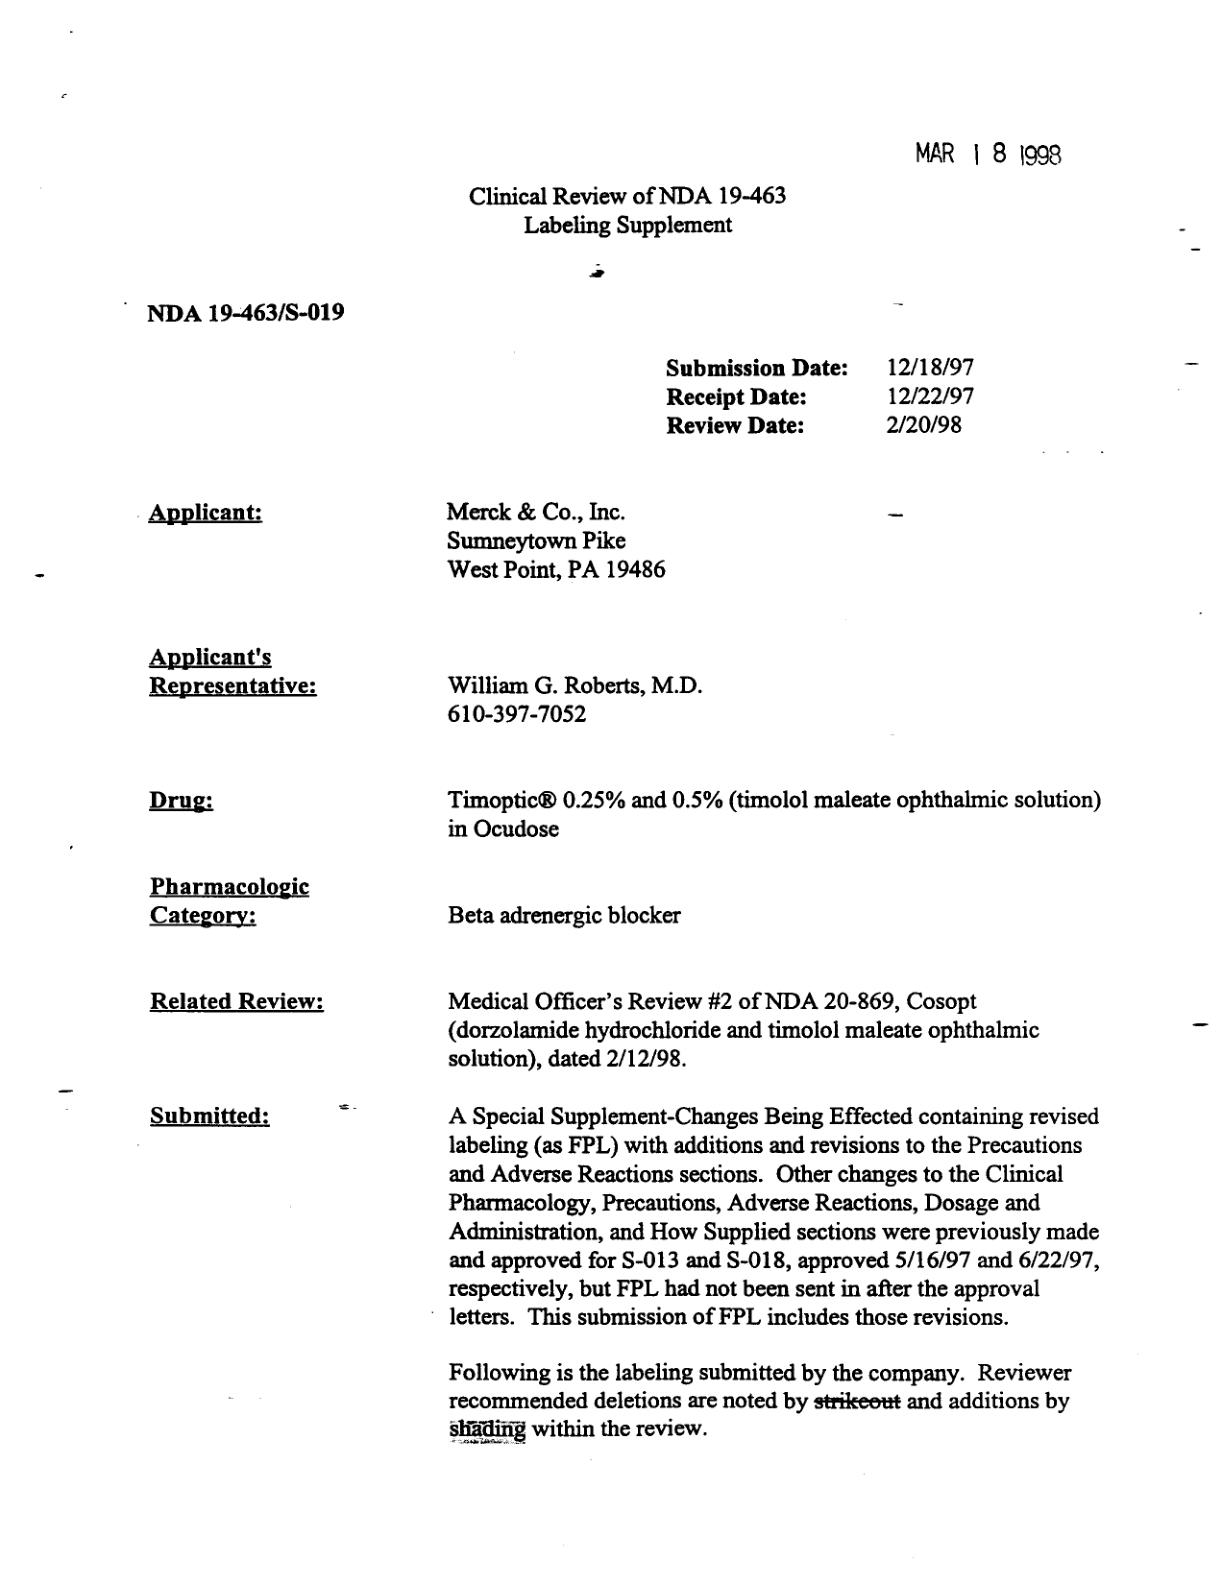nolines: (142, 298, 1104, 1451)
